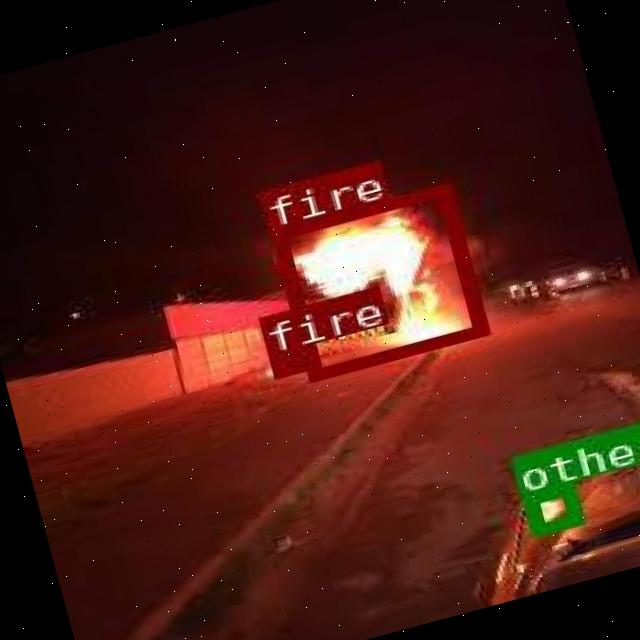fire: (264, 181, 484, 380), (265, 344, 310, 376)
